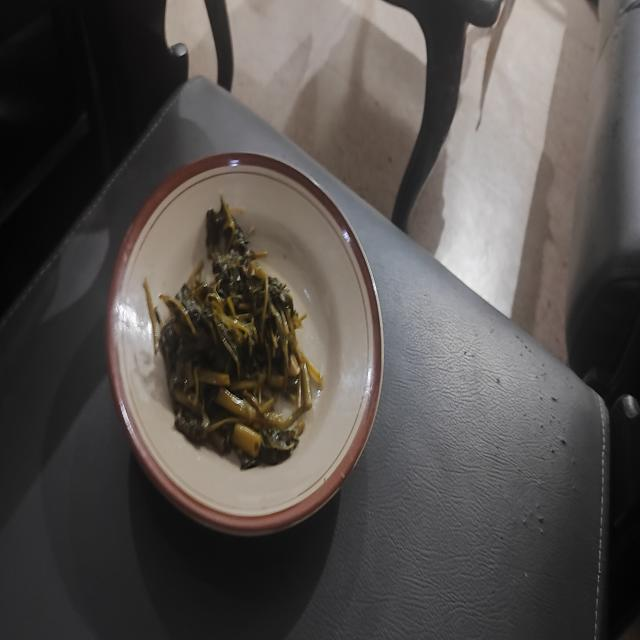tumis_kangkung: (144, 196, 323, 468)
